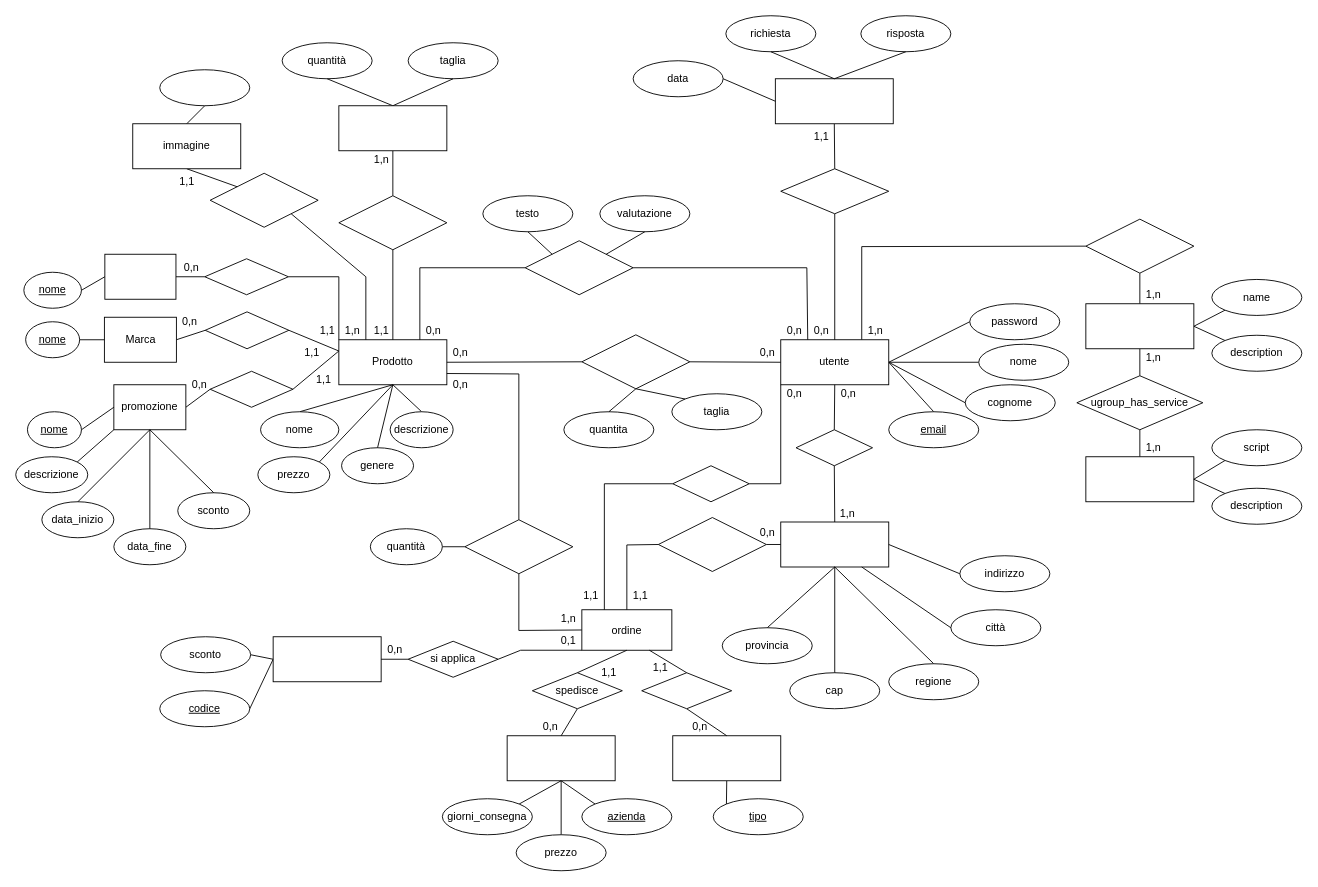
Some shapes in this 1318 by 887 pixel diagram are drawn without their labels. Each missing label, with the centre of its shape:
appartiene: [246,276]
asociato: [251,388]
Categoria: [140,276]
Corriere: [560,758]
Coupon: [326,659]
effettua: [710,483]
fa parte: [518,546]
fa riferimento: [711,544]
Indirizzo_spedizione: [834,544]
invia: [834,191]
Magazzino: [392,128]
Messaggio_Assistenza: [833,101]
Metodo_Pagamento: [726,758]
Possiede: [834,447]
Prenota_carrello: [635,361]
Recensice: [578,267]
service: [1139,479]
ugroup: [1139,326]
url: [204,87]
user_has_group: [1139,245]
utilizza: [686,690]
è fornito: [246,330]
è presente: [392,222]
è rappresentato: [263,199]
